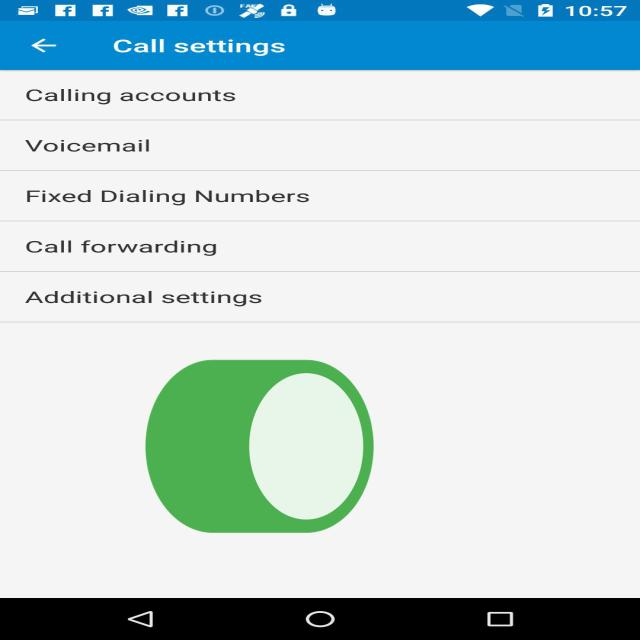social proof: (135, 293, 384, 613)
